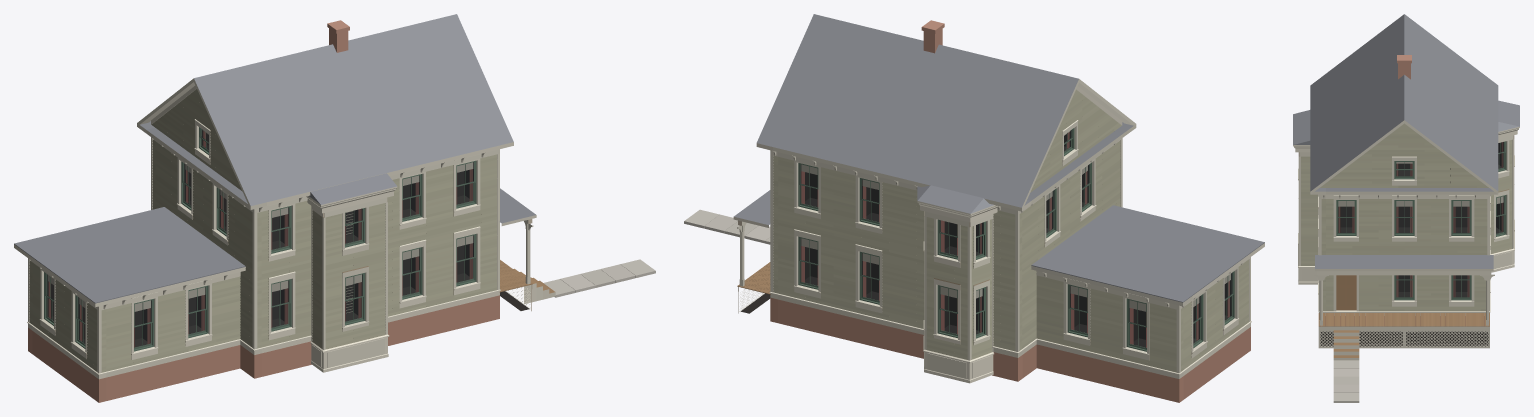
File: house_2125_prairie__as_mapped_1904.glb
3 views of the same model, side by side, from view 1: azimuth 30°, elevation 25°; view 2: azimuth 150°, elevation 25°; view 3: azimuth 270°, elevation 25° (orthographic). The views are drawn at different scales.
Parts seen in each view (by area): view 1: house_2125_prairie__as_mapped_1904; view 2: house_2125_prairie__as_mapped_1904; view 3: house_2125_prairie__as_mapped_1904.
Boxes of the visible parts, bbox=[...] form: house_2125_prairie__as_mapped_1904: bbox=[14, 14, 655, 402]; house_2125_prairie__as_mapped_1904: bbox=[684, 14, 1264, 402]; house_2125_prairie__as_mapped_1904: bbox=[1293, 14, 1519, 402].
Bounding box in the file's own units: 24.85 × 12.02 × 10.54.
